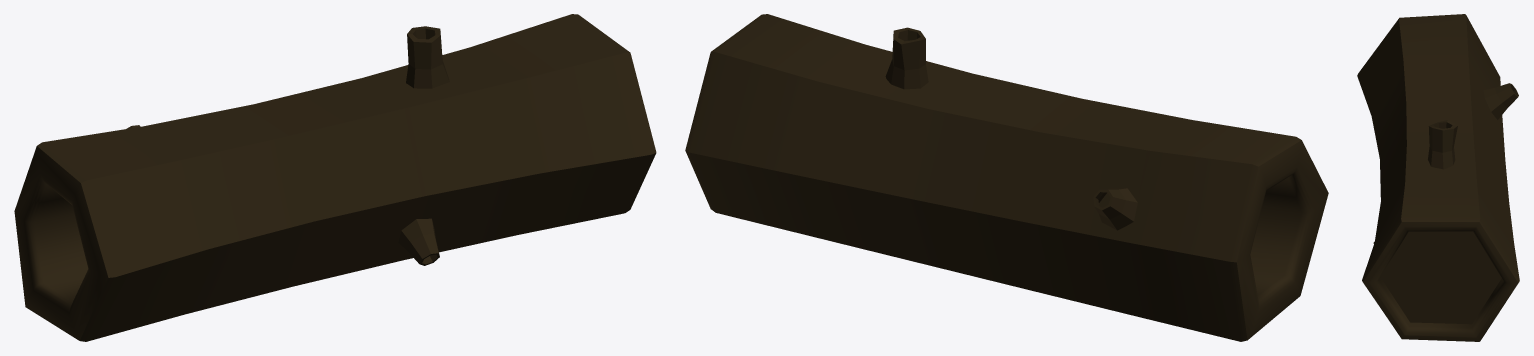
File: Tronco.fbx
3 views of the same model, side by side, from view 1: azimuth 30°, elevation 25°; view 2: azimuth 150°, elevation 25°; view 3: azimuth 270°, elevation 25° (orthographic). The views are drawn at different scales.
Visible parts, largest first — view 1: Tronco, Ram, Ram001; view 2: Tronco, Ram (×2); view 3: Tronco, Ram (×2).
Boxes of the visible parts, x1,y1,x2,y2 form: Tronco: (14,14,656,341); Ram: (406,26,449,88); Ram001: (398,218,439,265); Tronco: (685,14,1328,341); Ram (×2): (885,27,1137,230); Tronco: (1357,14,1519,341); Ram (×2): (1428,83,1518,169).
Bounding box in the file's own units: 29.95 × 10.75 × 10.21.
